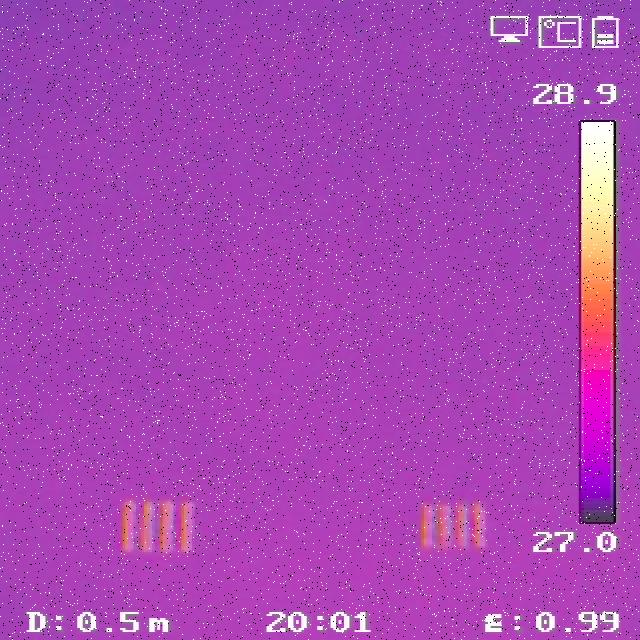Distinguishable 4-bar target: (118, 494, 198, 558), (418, 501, 490, 552)
